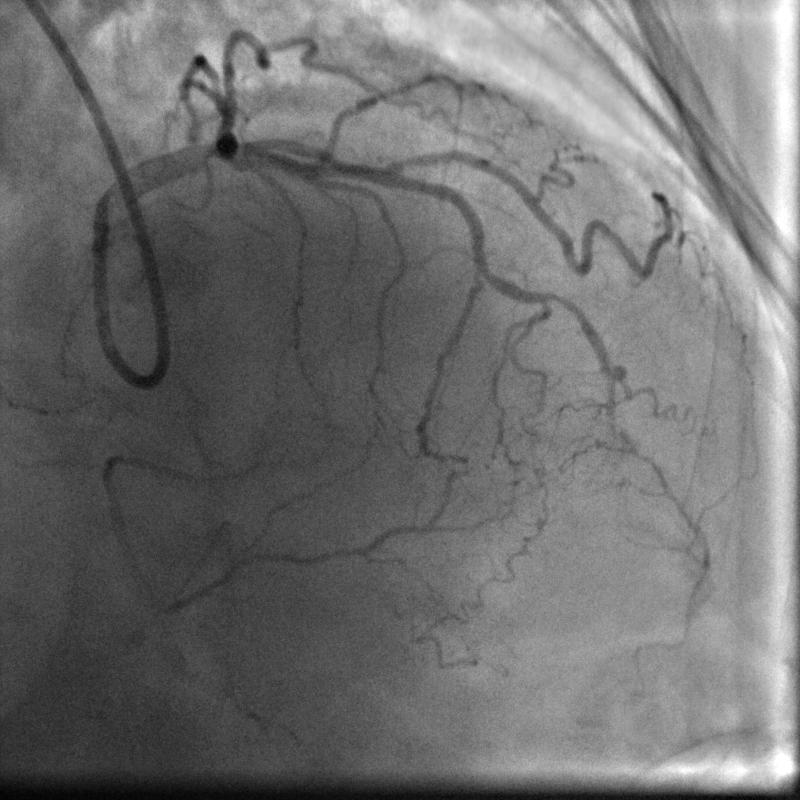Stenosis: (190, 126, 225, 169)
